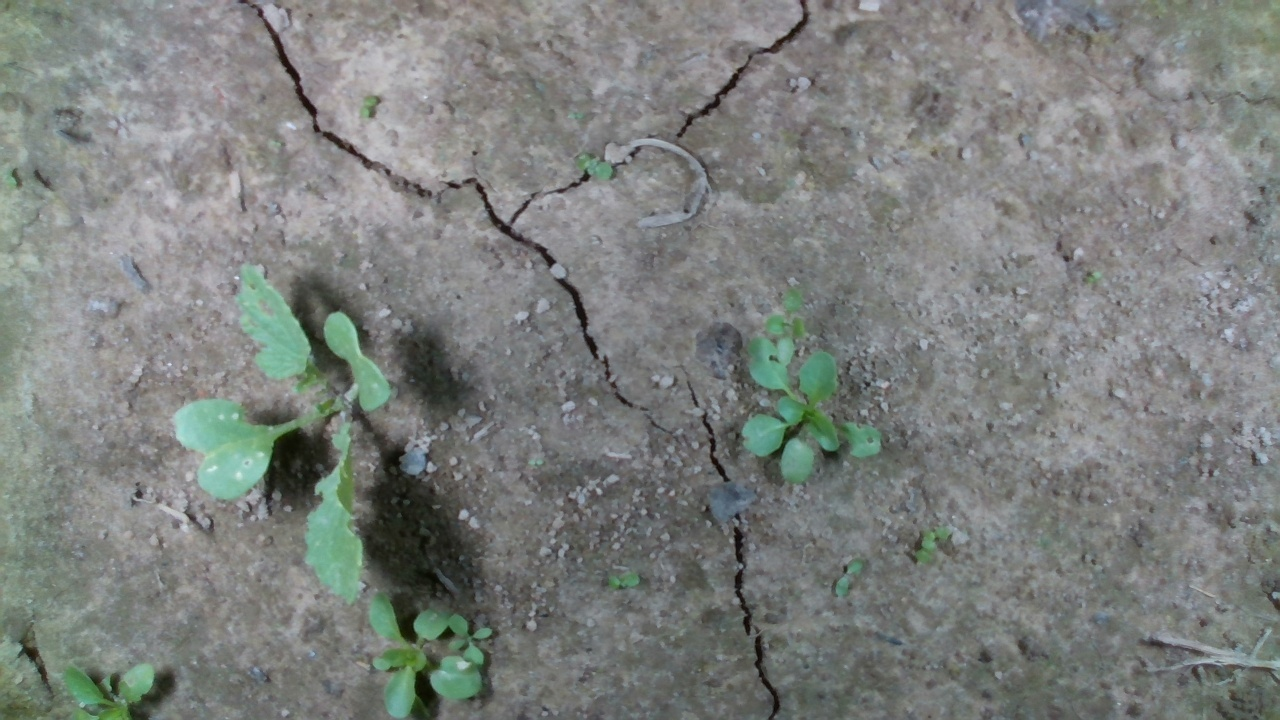weed: (833, 554, 865, 600), (572, 150, 614, 181), (605, 571, 642, 591), (358, 92, 381, 122)
